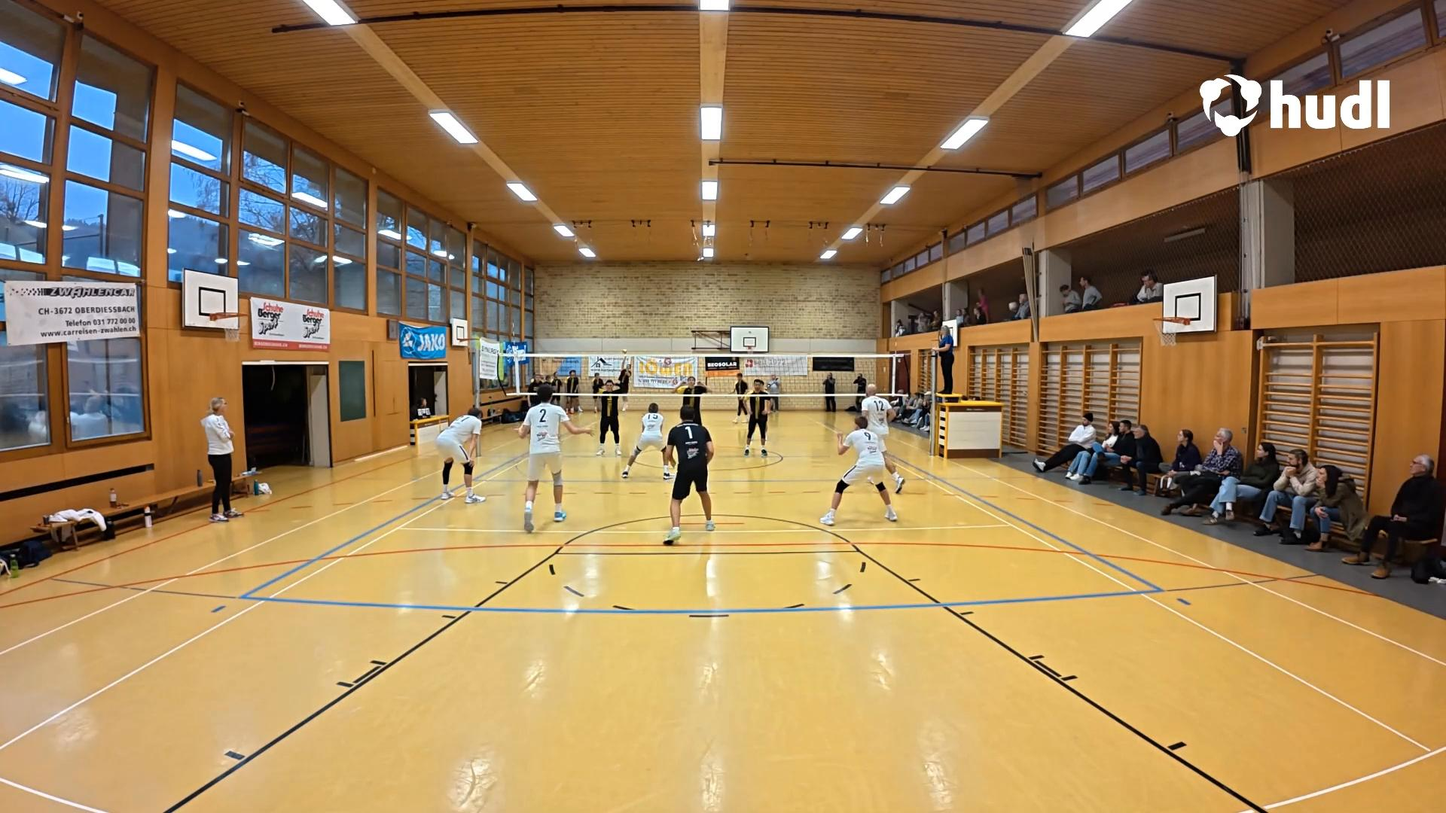battuta: (616, 350, 635, 412)
